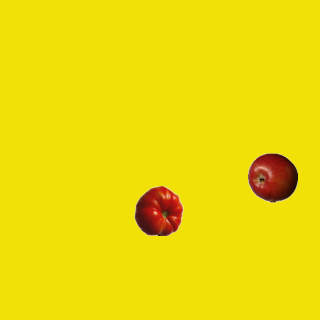Apple Braeburn: (247, 152, 297, 202)
Tomato 3: (133, 185, 183, 235)
